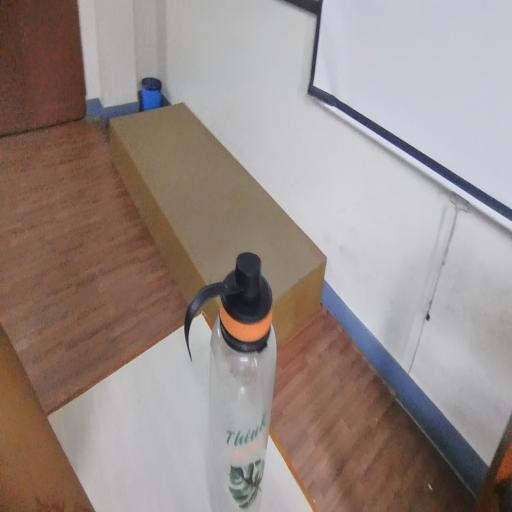Bottle: (197, 263, 301, 448)
